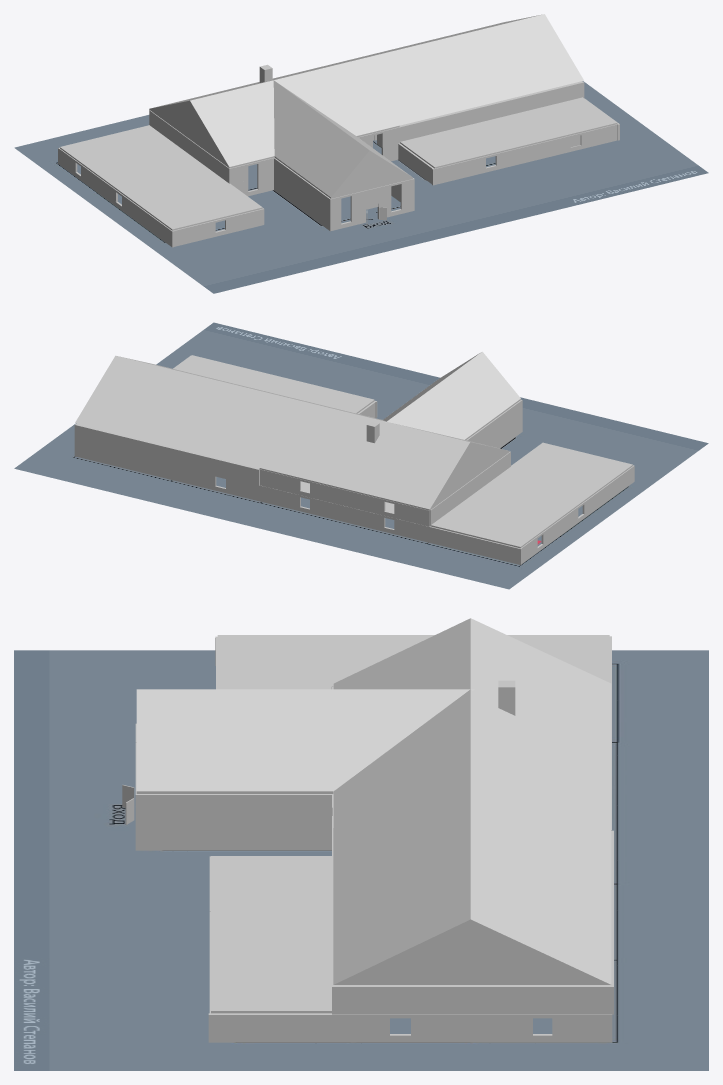
The model's file is MainBuilding.FBX.
The picture shows the model from 3 angles, top to bottom: view 1: azimuth 30°, elevation 25°; view 2: azimuth 150°, elevation 25°; view 3: azimuth 270°, elevation 25°; orthographic projection. The views are drawn at different scales.
Parts seen in each view (by area): view 1: Box017, mainBuildingPlan, Box001; view 2: Box017, mainBuildingPlan, Box001; view 3: Box017, mainBuildingPlan, Box001.
Boxes of the visible parts, <box> form: Box017: <box>60,14,617,230</box>; mainBuildingPlan: <box>14,81,708,293</box>; Box001: <box>58,81,619,247</box>; Box017: <box>75,351,632,548</box>; mainBuildingPlan: <box>14,322,708,589</box>; Box001: <box>74,355,634,564</box>; Box017: <box>136,618,611,1013</box>; mainBuildingPlan: <box>14,650,708,1070</box>; Box001: <box>135,636,613,1042</box>.
Size of the model in its own units: 4056 by 591 by 2833.
